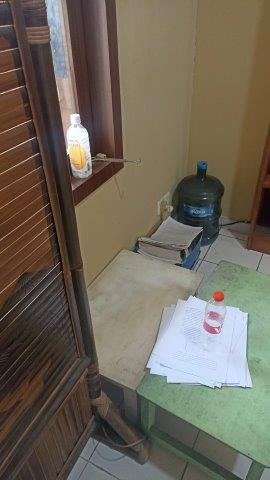botolplastik: (65, 113, 94, 180), (206, 295, 228, 349)
kertas: (151, 295, 256, 394)
